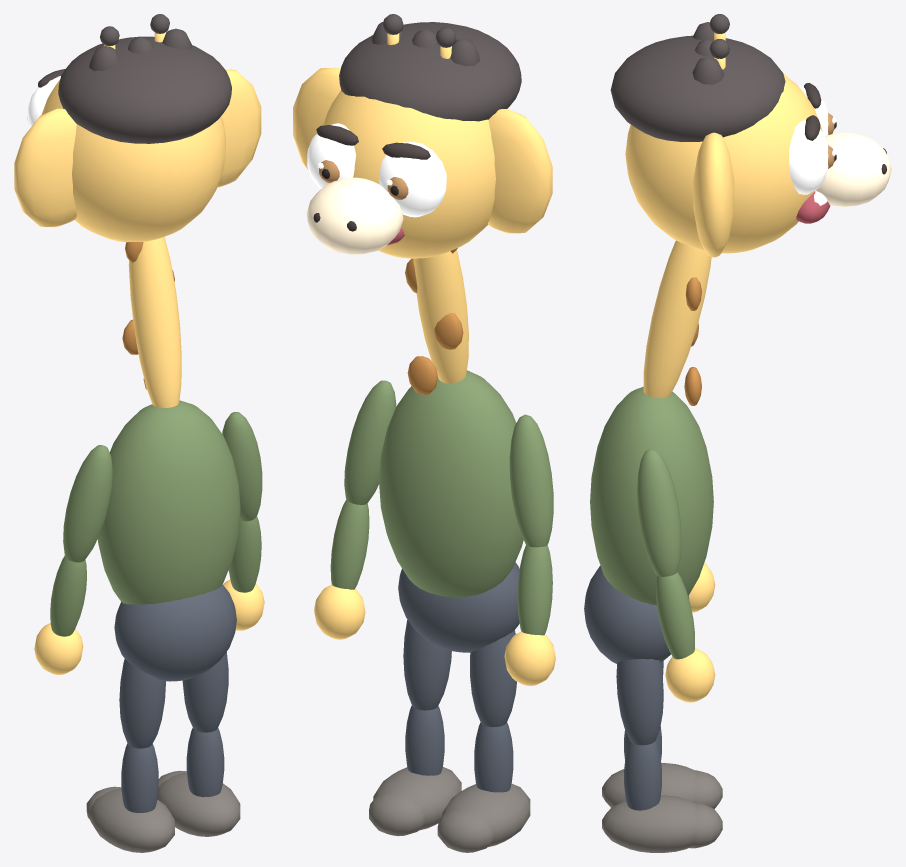
Rendered from Giraffe.glb.
3 views of the same model, side by side, from view 1: azimuth 30°, elevation 25°; view 2: azimuth 150°, elevation 25°; view 3: azimuth 270°, elevation 25° (orthographic). The views are drawn at different scales.
Visible parts, largest first — view 1: CH2_torso, CH2_head, CH2_hair, CH2_hips, CH2_neck, CH2_ear_L, CH2_armU_L, CH2_shoe_L, CH2_shoe_R, CH2_ear_R, CH2_legU_L, CH2_armU_R (+9 smaller); view 2: CH2_torso, CH2_head, CH2_hair, CH2_hips, CH2_ear_L, CH2_snout, CH2_neck, CH2_shoe_L, CH2_armU_L, CH2_shoe_R, CH2_armU_R, CH2_eyeW_L (+15 smaller); view 3: CH2_torso, CH2_head, CH2_hair, CH2_neck, CH2_shoe_R, CH2_hips, CH2_armU_R, CH2_ear_R, CH2_snout, CH2_legU_R, CH2_shoe_L, CH2_armL_R (+6 smaller).
Part boxes in pixels (left/top/right/bottom): CH2_torso: left=97, top=400, right=240, bottom=604; CH2_head: left=41, top=79, right=225, bottom=242; CH2_hair: left=58, top=36, right=231, bottom=143; CH2_hips: left=114, top=584, right=236, bottom=681; CH2_neck: left=128, top=237, right=181, bottom=407; CH2_ear_L: left=14, top=108, right=76, bottom=227; CH2_armU_L: left=63, top=445, right=112, bottom=562; CH2_shoe_L: left=86, top=786, right=174, bottom=852; CH2_shoe_R: left=157, top=770, right=240, bottom=836; CH2_ear_R: left=217, top=69, right=261, bottom=187; CH2_legU_L: left=119, top=659, right=165, bottom=748; CH2_armU_R: left=222, top=412, right=262, bottom=521; CH2_torso: left=379, top=370, right=523, bottom=597; CH2_head: left=323, top=90, right=495, bottom=258; CH2_hair: left=339, top=22, right=521, bottom=121; CH2_hips: left=398, top=562, right=519, bottom=652; CH2_ear_L: left=488, top=109, right=552, bottom=233; CH2_snout: left=306, top=177, right=403, bottom=254; CH2_neck: left=413, top=250, right=468, bottom=383; CH2_shoe_L: left=437, top=783, right=530, bottom=852; CH2_armU_L: left=509, top=414, right=553, bottom=547; CH2_shoe_R: left=369, top=767, right=461, bottom=836; CH2_armU_R: left=344, top=380, right=396, bottom=504; CH2_eyeW_L: left=379, top=141, right=446, bottom=217; CH2_torso: left=590, top=386, right=713, bottom=604; CH2_head: left=625, top=74, right=822, bottom=253; CH2_hair: left=610, top=35, right=785, bottom=141; CH2_neck: left=643, top=240, right=711, bottom=398; CH2_shoe_R: left=602, top=795, right=722, bottom=852; CH2_hips: left=584, top=565, right=689, bottom=663; CH2_armU_R: left=637, top=449, right=681, bottom=576; CH2_ear_R: left=693, top=132, right=734, bottom=257; CH2_snout: left=816, top=132, right=891, bottom=206; CH2_legU_R: left=616, top=659, right=663, bottom=745; CH2_shoe_L: left=602, top=763, right=722, bottom=808; CH2_armL_R: left=656, top=572, right=694, bottom=659.
Bounding box in the file's own units: 0.9632 × 3.01 × 1.04.
